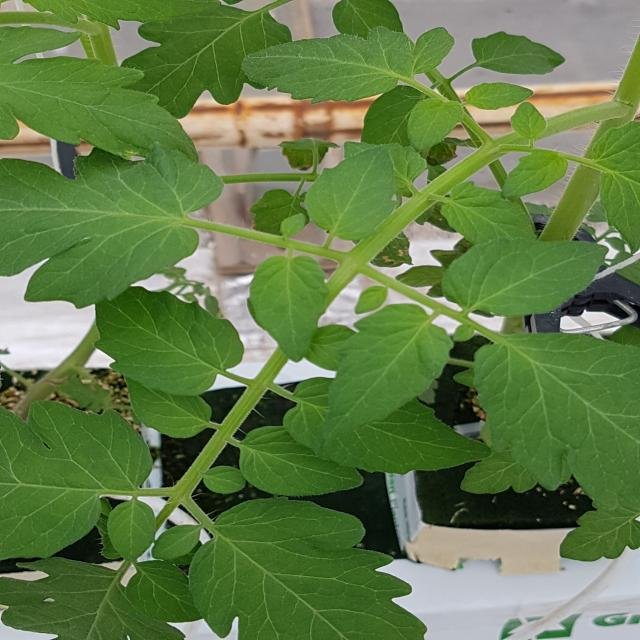Healthy Leaf: (1, 145, 226, 310), (189, 499, 428, 640), (477, 333, 640, 513), (1, 28, 201, 162), (1, 403, 155, 561), (286, 378, 494, 476), (124, 7, 293, 121), (96, 286, 247, 395), (326, 305, 454, 430), (244, 30, 453, 103), (445, 241, 607, 316), (240, 427, 364, 496), (250, 258, 330, 364), (307, 147, 392, 243), (445, 183, 539, 245), (124, 559, 203, 623), (474, 34, 567, 77), (507, 150, 570, 197), (110, 502, 157, 564), (407, 99, 464, 148), (464, 83, 534, 111), (150, 525, 204, 560)
